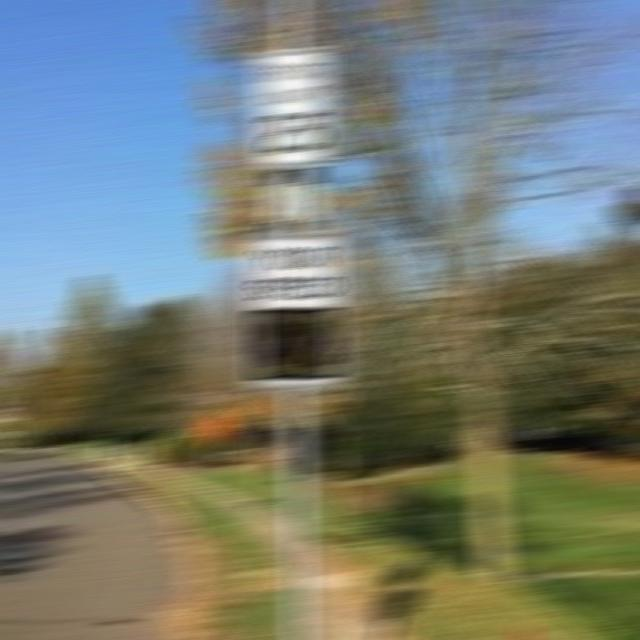speedLimit25: (255, 34, 332, 167)
